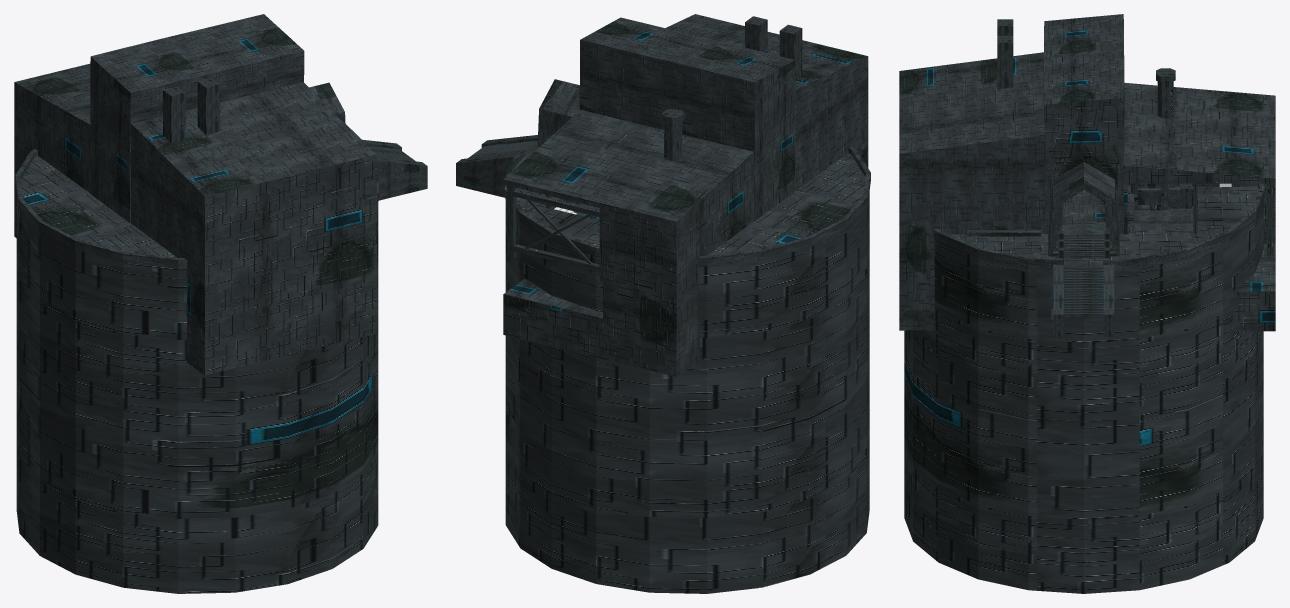
Rendered from UnderGroundBase_B.fbx.
3 renders of one model, left to right at view 1: azimuth 30°, elevation 25°; view 2: azimuth 150°, elevation 25°; view 3: azimuth 270°, elevation 25°, orthographic.
Parts seen in each view (by area): view 1: pCube2; view 2: pCube2; view 3: pCube2, pCube5, pCube86.
Part boxes in pixels (x1,y1,x2,y2): pCube2: [14, 14, 427, 593]; pCube2: [456, 14, 870, 593]; pCube2: [899, 14, 1275, 593]; pCube5: [1058, 231, 1109, 258]; pCube86: [967, 230, 1041, 236].
Size of the model in its own units: 26.29 by 31.79 by 23.25.
